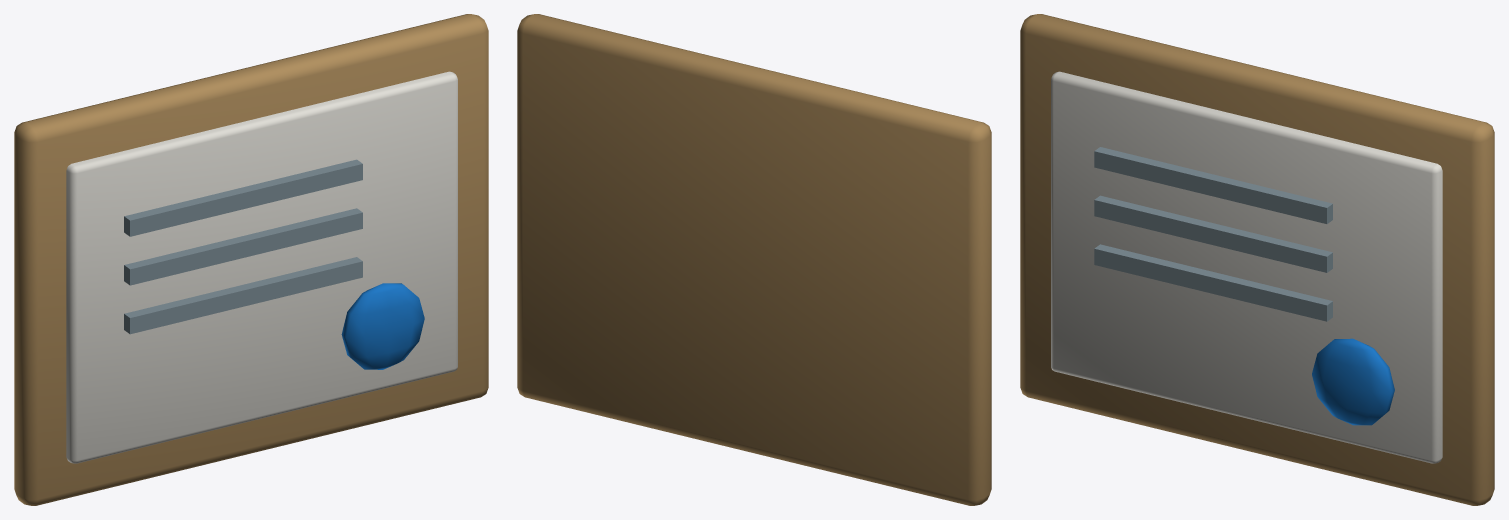
File: f_certificate.glb
3 views of the same model, side by side, from view 1: azimuth 30°, elevation 25°; view 2: azimuth 150°, elevation 25°; view 3: azimuth 330°, elevation 25° (orthographic).
Parts seen in each view (by area): view 1: f_certificate; view 2: f_certificate; view 3: f_certificate.
Boxes of the visible parts, x1=… form: f_certificate: x1=14, y1=14, x2=488, y2=505; f_certificate: x1=517, y1=14, x2=991, y2=505; f_certificate: x1=1020, y1=14, x2=1494, y2=505.
Size of the model in its own units: 0.9 by 0.7 by 0.114.
